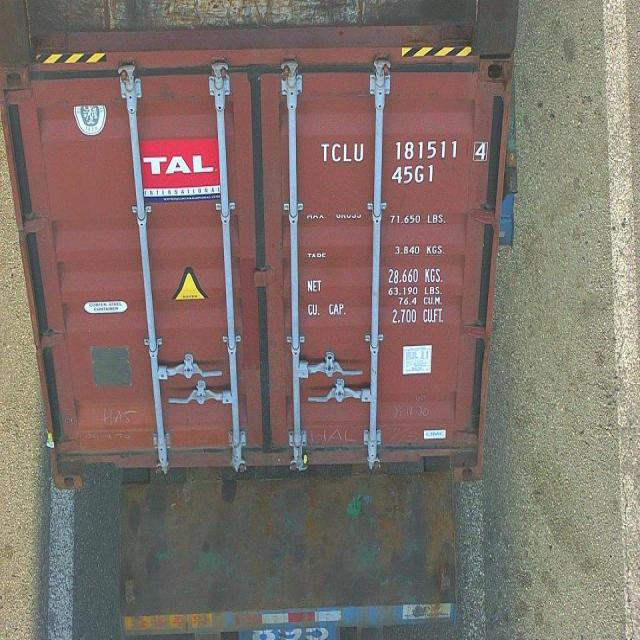ISO: (392, 164, 436, 184)
container_number: (318, 137, 485, 166)
